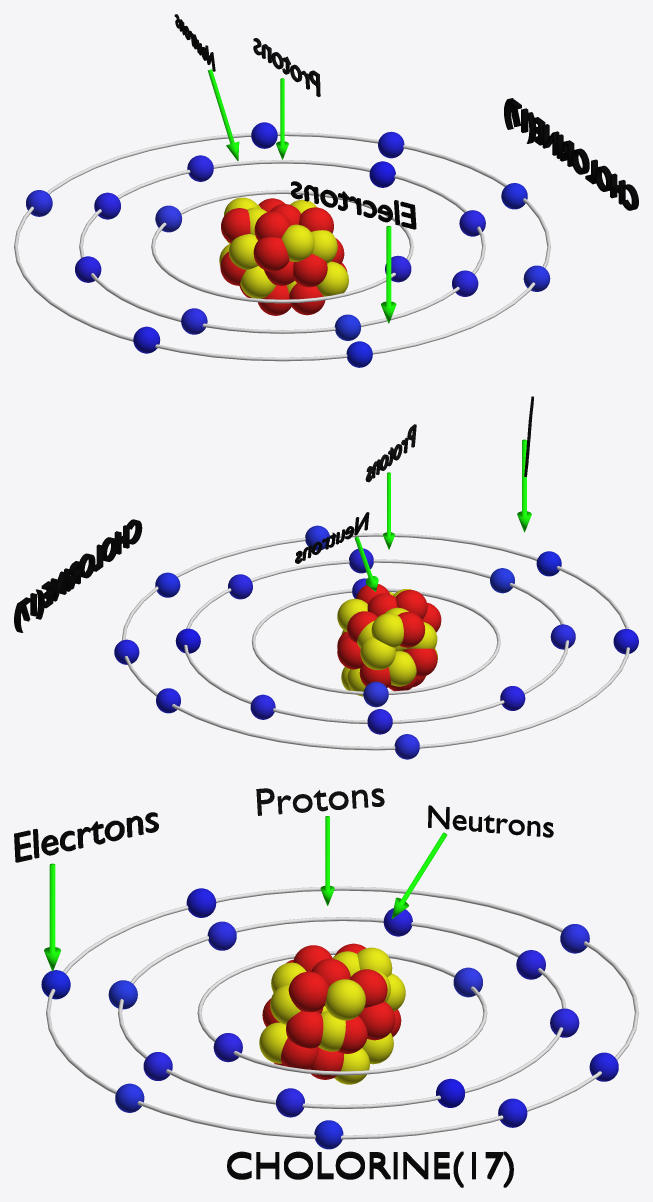
File: Cholorine Aatomic Model.gltf
3 views of the same model, one above another, from view 1: azimuth 30°, elevation 25°; view 2: azimuth 150°, elevation 25°; view 3: azimuth 270°, elevation 25° (orthographic). The views are drawn at different scales.
Visible parts, largest first — view 1: Torus.003, Text.003, Torus.002, Torus.001, Text, Sphere.045, Text.001, Sphere.028, Sphere.037, Sphere.030, Sphere.021, Sphere.047 (+25 smaller); view 2: Torus.003, Text.003, Torus.002, Torus.001, Sphere.029, Sphere.034, Text.002, Text.001, Sphere.026, Sphere.048, Sphere.049, Sphere.047 (+10 smaller); view 3: Torus.003, Torus.002, Text.003, Torus.001, Text, Text.001, Sphere.031, Sphere.043, Text.002, Sphere.042, Sphere.041, Sphere.040 (+31 smaller).
Part boxes in pixels (x1=…): Torus.003: x1=14, y1=132, x2=550, y2=361; Text.003: x1=504, y1=98, x2=638, y2=210; Torus.002: x1=79, y1=160, x2=485, y2=333; Torus.001: x1=151, y1=190, x2=413, y2=303; Text: x1=291, y1=181, x2=416, y2=229; Sphere.045: x1=253, y1=237, x2=289, y2=271; Text.001: x1=253, y1=38, x2=320, y2=96; Sphere.028: x1=281, y1=224, x2=314, y2=261; Sphere.037: x1=293, y1=254, x2=327, y2=287; Sphere.030: x1=229, y1=234, x2=258, y2=269; Sphere.021: x1=240, y1=266, x2=276, y2=298; Sphere.047: x1=254, y1=211, x2=290, y2=240; Torus.003: x1=121, y1=533, x2=629, y2=750; Text.003: x1=14, y1=519, x2=142, y2=632; Torus.002: x1=184, y1=559, x2=568, y2=723; Torus.001: x1=251, y1=588, x2=500, y2=694; Sphere.029: x1=360, y1=637, x2=395, y2=670; Sphere.034: x1=371, y1=613, x2=403, y2=647; Text.002: x1=295, y1=512, x2=369, y2=563; Text.001: x1=365, y1=424, x2=416, y2=482; Sphere.026: x1=388, y1=651, x2=416, y2=686; Sphere.048: x1=398, y1=612, x2=425, y2=647; Sphere.049: x1=404, y1=648, x2=437, y2=676; Sphere.047: x1=395, y1=589, x2=427, y2=619; Torus.003: x1=46, y1=886, x2=638, y2=1139; Torus.002: x1=118, y1=917, x2=566, y2=1108; Text.003: x1=227, y1=1151, x2=513, y2=1187; Torus.001: x1=197, y1=950, x2=487, y2=1075; Text: x1=14, y1=812, x2=158, y2=862; Text.001: x1=256, y1=788, x2=384, y2=815; Sphere.031: x1=325, y1=979, x2=365, y2=1020; Sphere.043: x1=288, y1=971, x2=328, y2=1011; Text.002: x1=428, y1=805, x2=553, y2=837; Sphere.042: x1=286, y1=1011, x2=323, y2=1048; Sphere.041: x1=358, y1=1001, x2=395, y2=1040; Sphere.040: x1=350, y1=969, x2=387, y2=1007.
Size of the model in its own units: 5.01 by 2.3 by 4.58.
